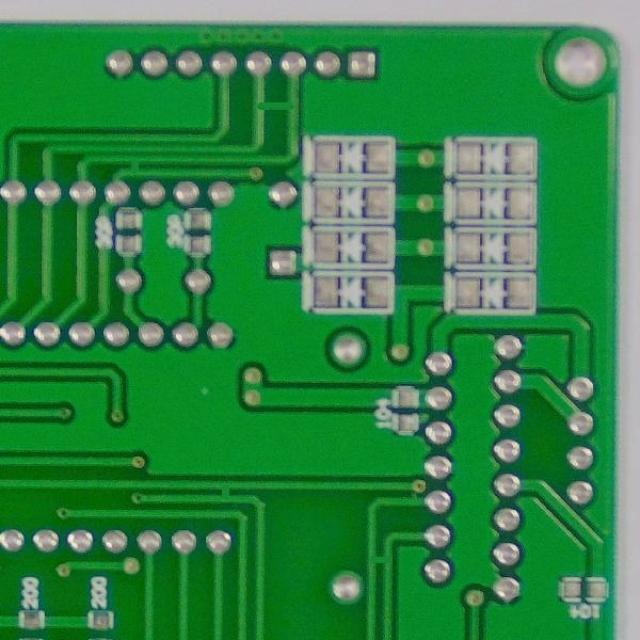Short_Circuit: (246, 88, 306, 126), (120, 150, 148, 180), (210, 476, 239, 504), (365, 548, 397, 573)
